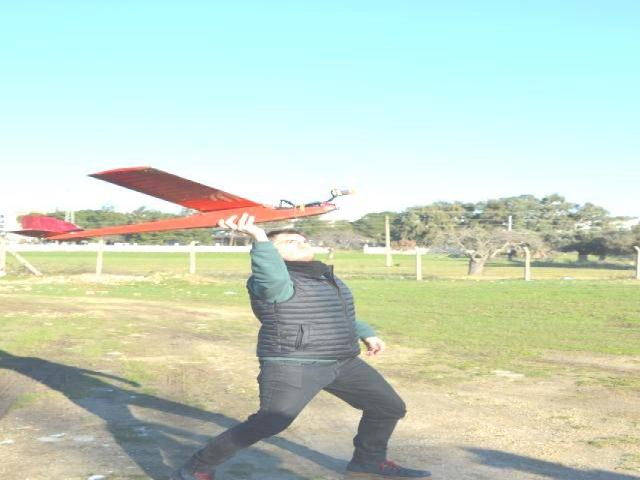iha: (2, 134, 362, 268)
